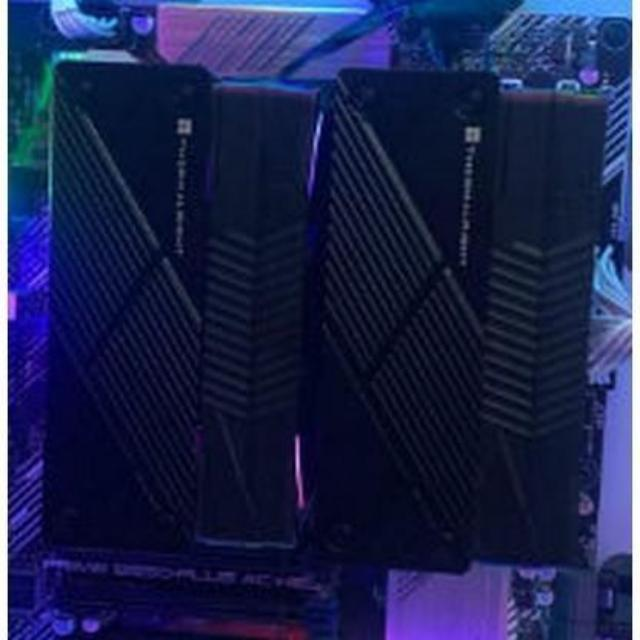CPU_Fan: (43, 55, 603, 577)
